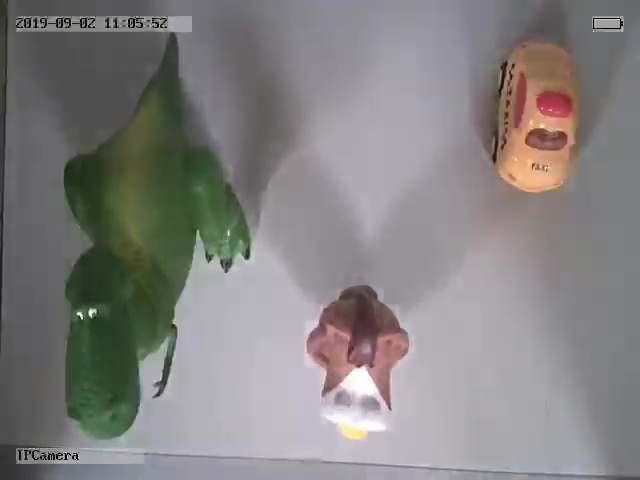car: (488, 36, 580, 194)
horse: (307, 282, 408, 441)
rex: (63, 59, 251, 441)
